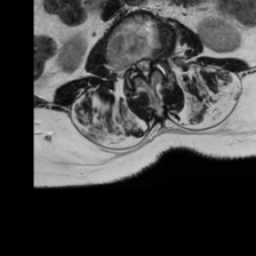CCS_normal: (142, 52, 149, 85)
LFS_severe_stenosis: (156, 48, 162, 72)
LLS_severe_stenosis: (149, 51, 156, 76)
RFS_severe_stenosis: (128, 54, 135, 78)
RLS_stenosis: (135, 53, 142, 77)
